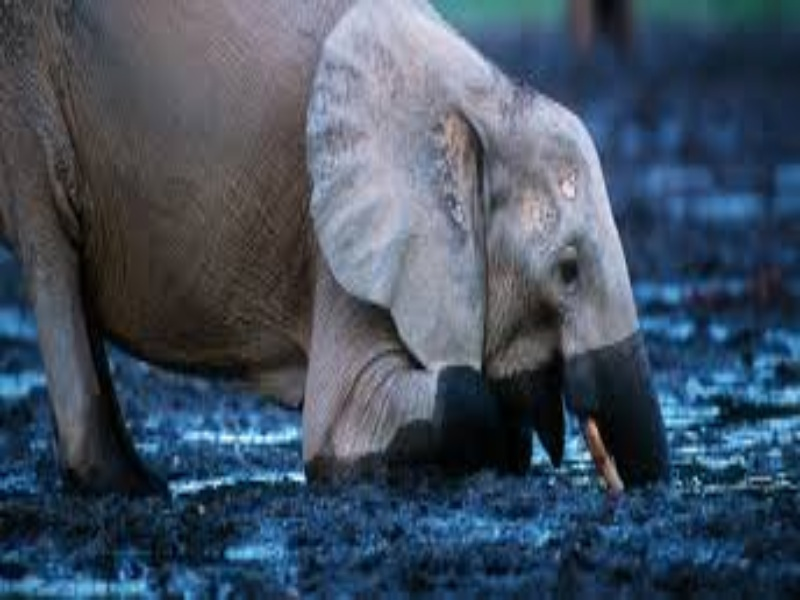elephant: (52, 1, 757, 524)
